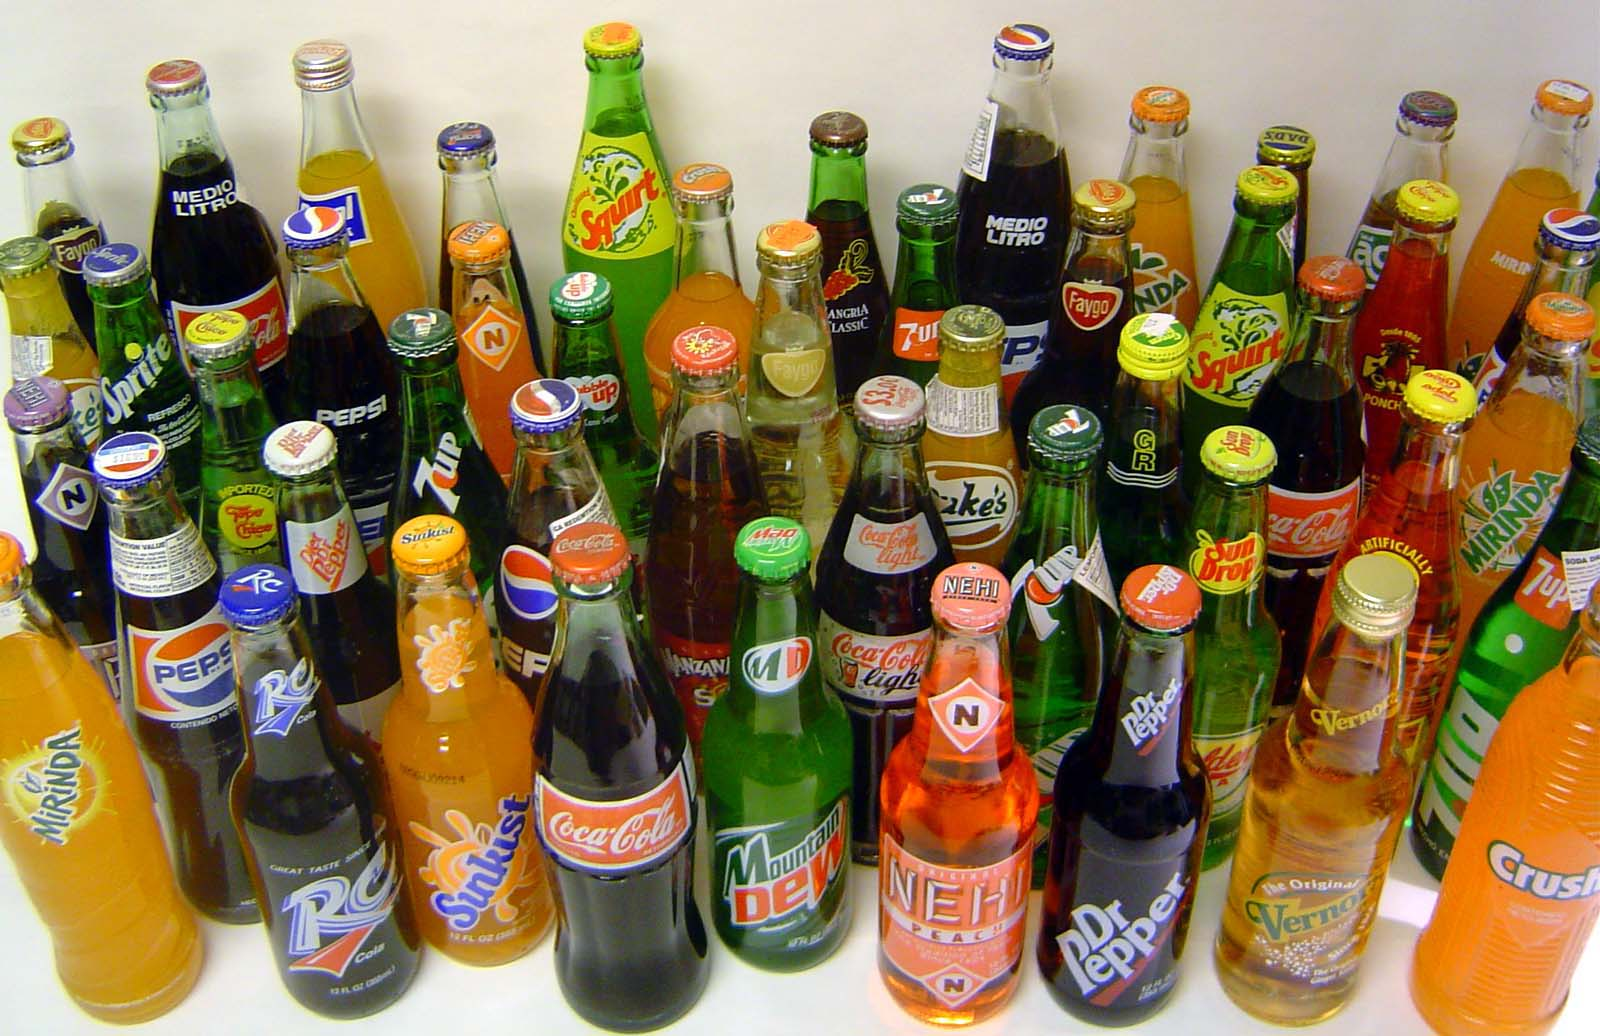Rec_Glass: (1, 16, 1584, 1030), (203, 562, 431, 1010), (522, 518, 706, 1036), (1233, 533, 1419, 1032), (873, 560, 1036, 1035), (697, 521, 856, 978), (98, 37, 311, 371), (1054, 547, 1193, 1025), (548, 21, 689, 289), (950, 23, 1065, 332), (1256, 238, 1368, 518)
